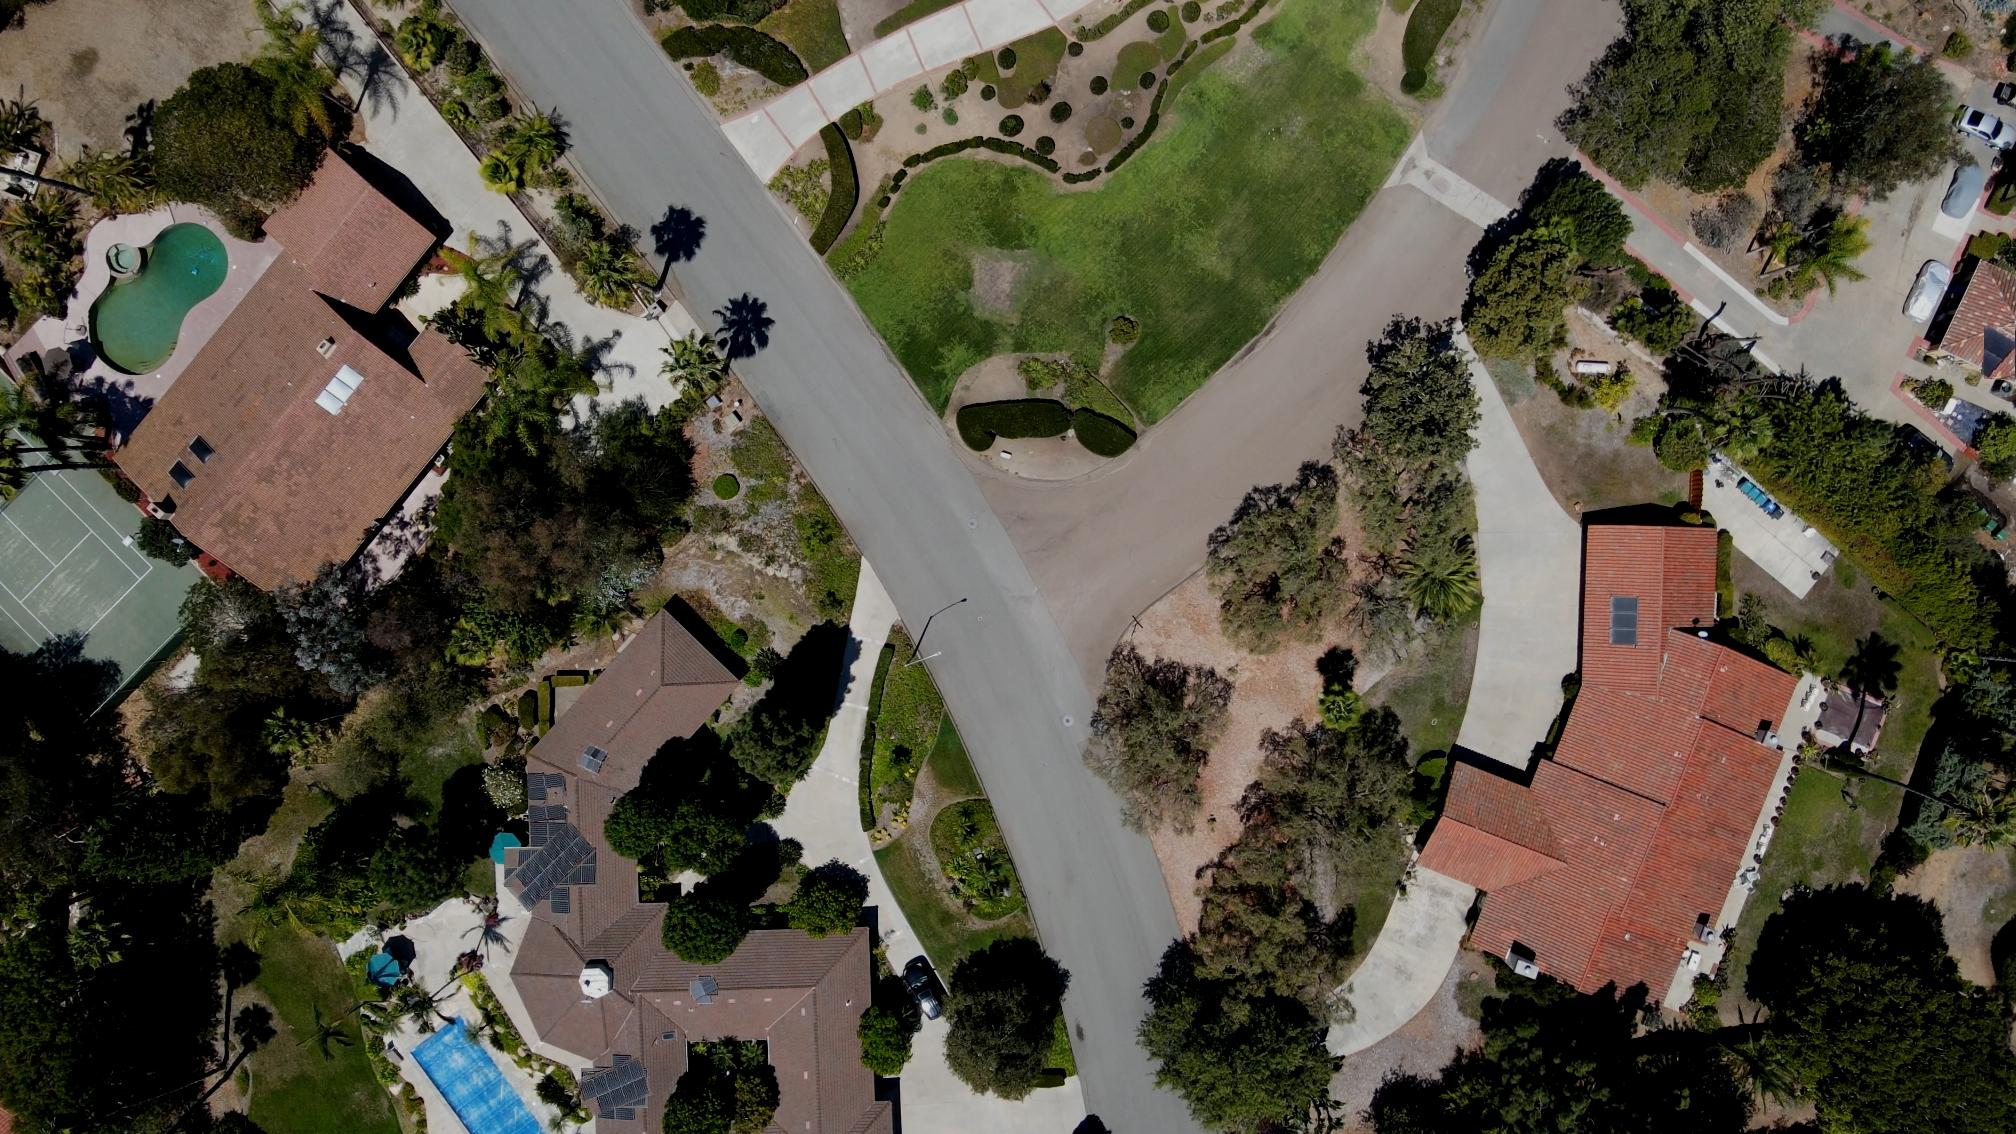solar-panels: (515, 822, 595, 912), (579, 1057, 651, 1114), (1981, 324, 2016, 377), (528, 773, 565, 800), (577, 745, 609, 776), (689, 976, 719, 1001), (528, 803, 564, 822)
